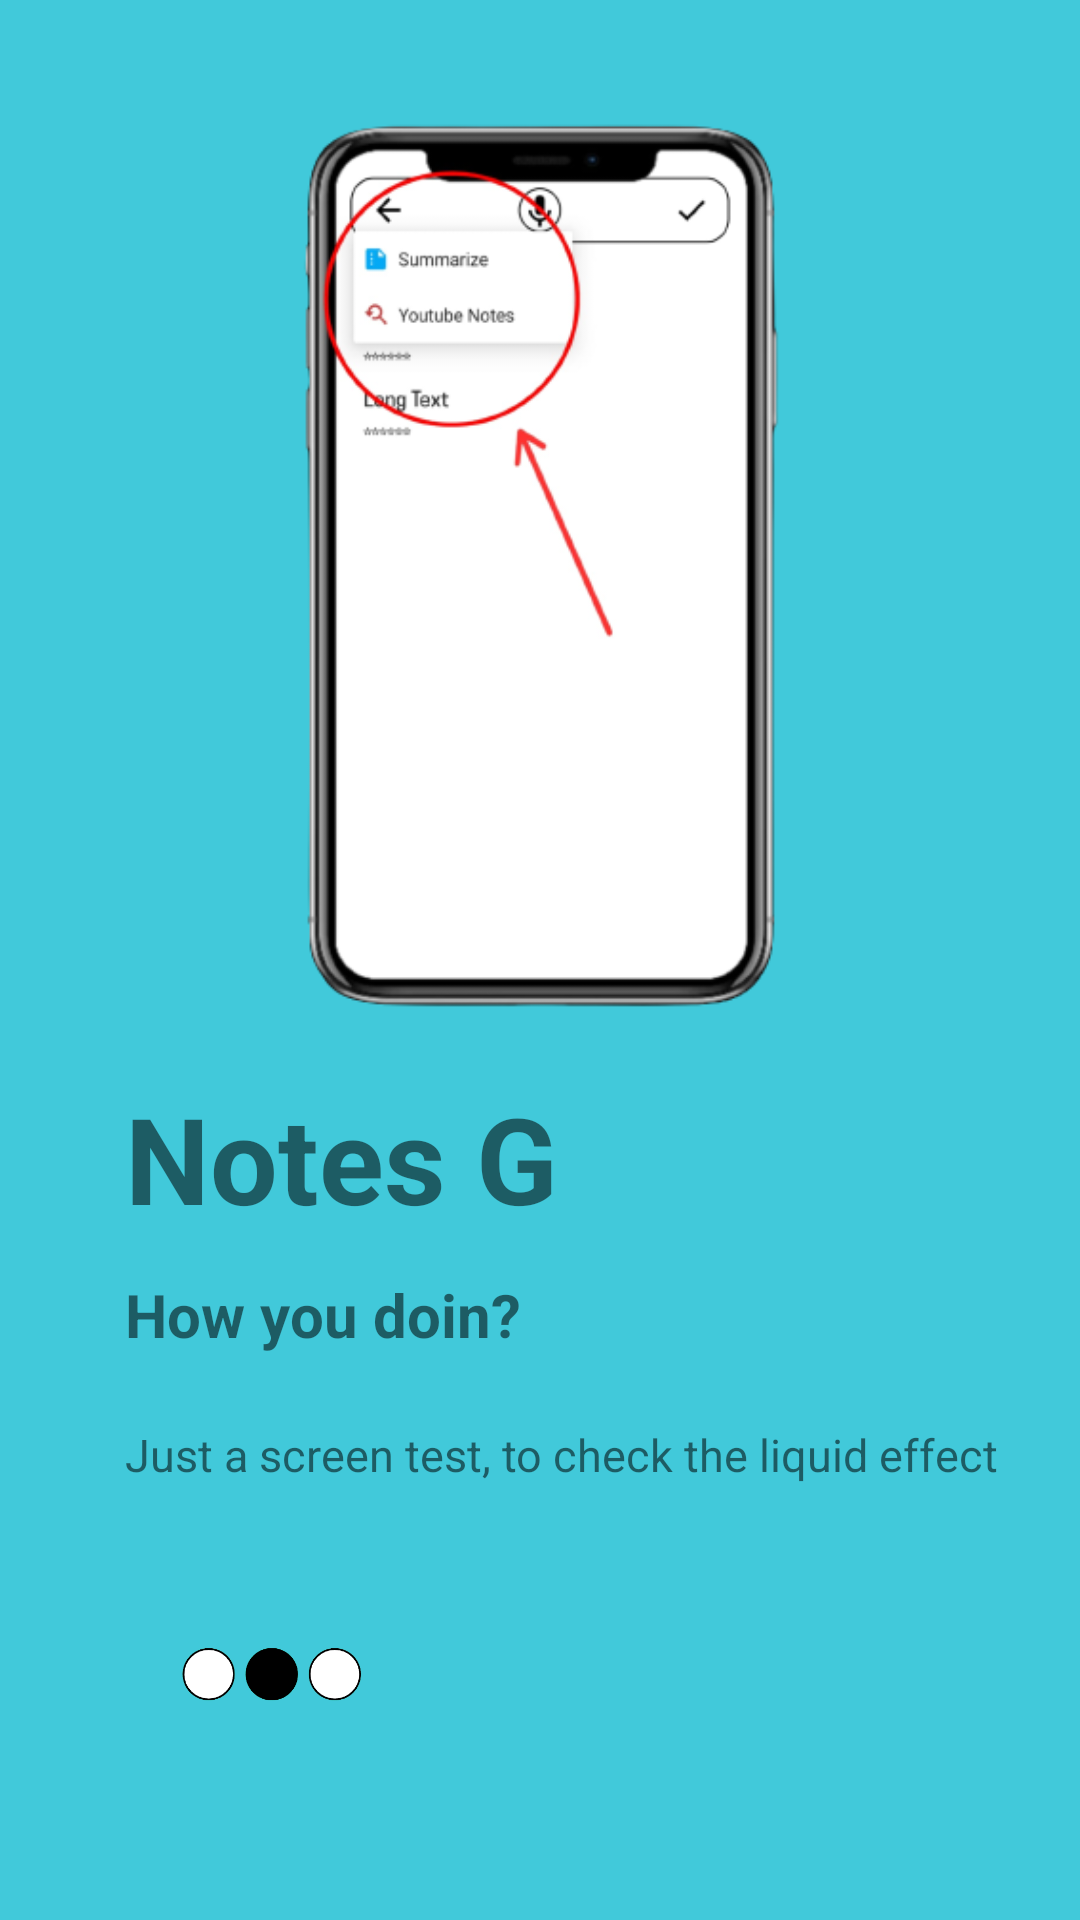

Where icons sit on this 1080x1920 app screen, as (x1, y1, x2, y2):
onboardnav: (182, 1648, 361, 1700)
